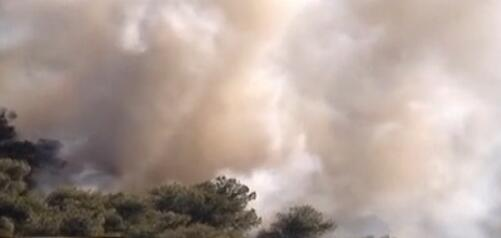smoke: (1, 1, 501, 201)
